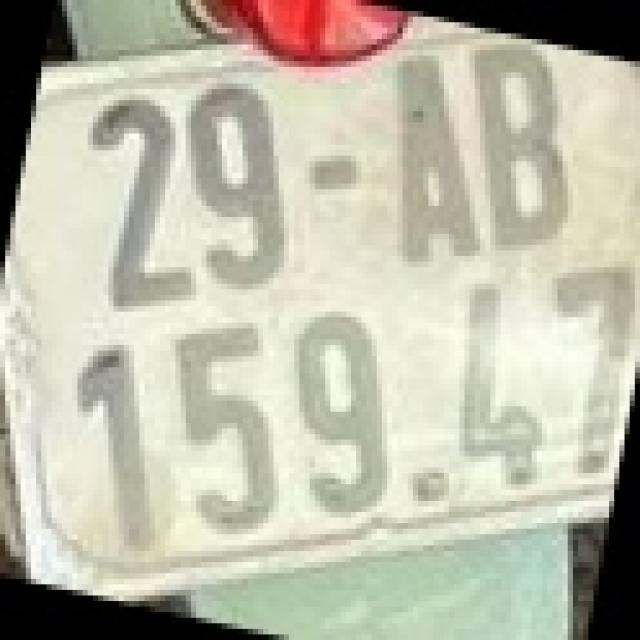1: (67, 334, 160, 551)
2: (83, 89, 196, 312)
4: (454, 278, 547, 496)
5: (170, 317, 284, 534)
7: (552, 262, 635, 473)
9: (186, 78, 294, 289), (289, 306, 392, 518)
A: (387, 50, 480, 267)
B: (475, 50, 573, 251)
